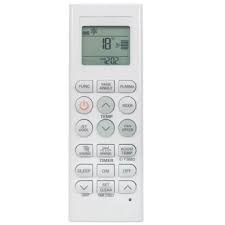remote control: (66, 1, 146, 224)
